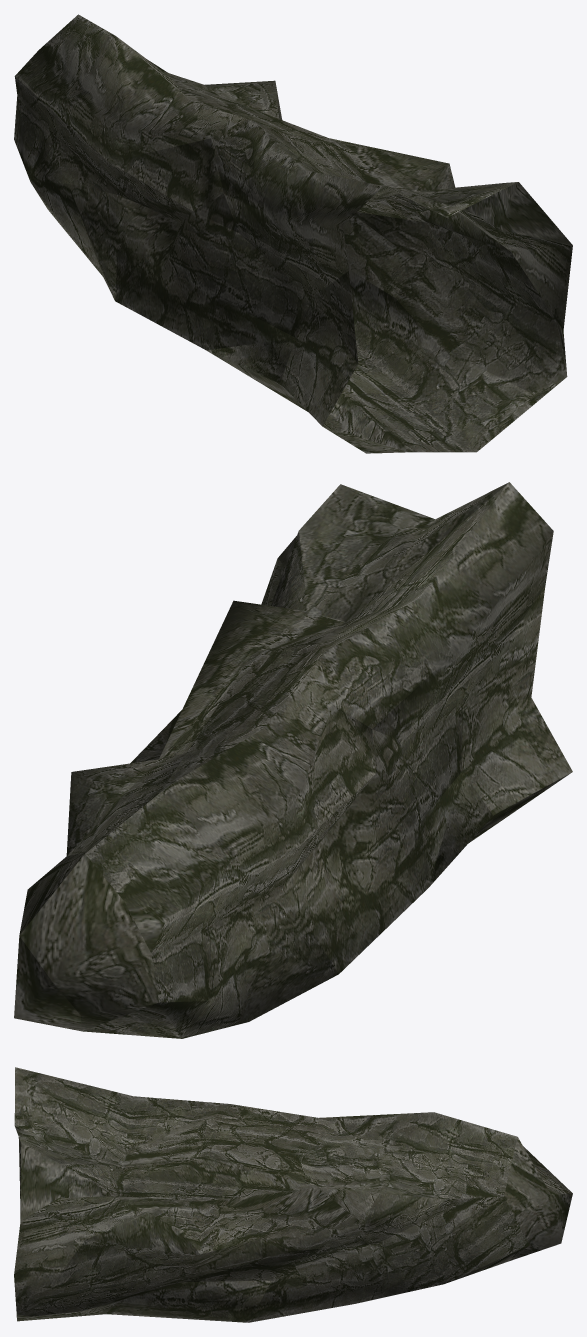
The model's file is rock006.FBX.
3 views of the same model, one above another, from view 1: azimuth 30°, elevation 25°; view 2: azimuth 150°, elevation 25°; view 3: azimuth 270°, elevation 25° (orthographic). The views are drawn at different scales.
Parts seen in each view (by area): view 1: TI_CLiff_02_a_LOD_03; view 2: TI_CLiff_02_a_LOD_03; view 3: TI_CLiff_02_a_LOD_03.
Part boxes in pixels (x1,y1,x2,y2): TI_CLiff_02_a_LOD_03: [14, 14, 572, 453]; TI_CLiff_02_a_LOD_03: [14, 482, 572, 1038]; TI_CLiff_02_a_LOD_03: [14, 1067, 572, 1322].
Bounding box in the file's own units: 2.07 × 2.3 × 5.16.
1 material, 1 textured.
